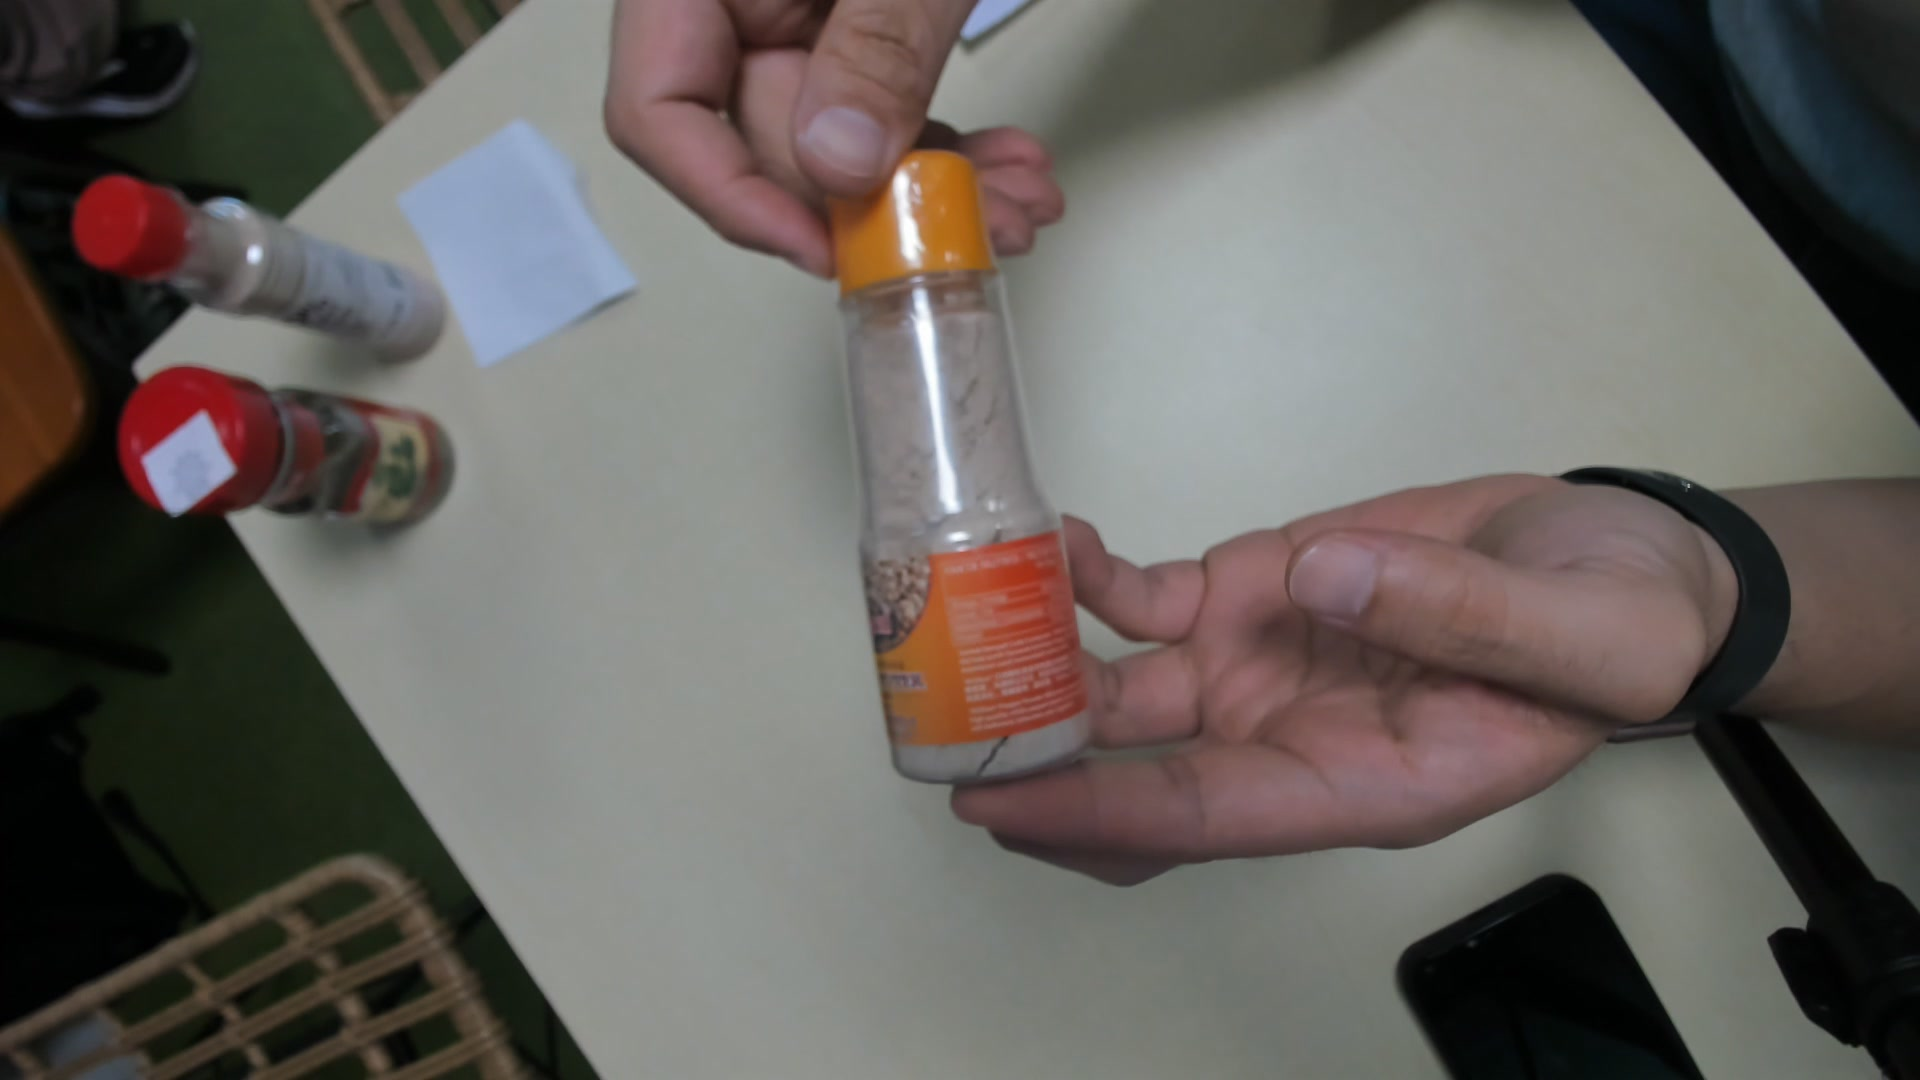HerbsSpicesPepper_400-499g_Halal_NonHealthy: (831, 144, 1095, 785)
